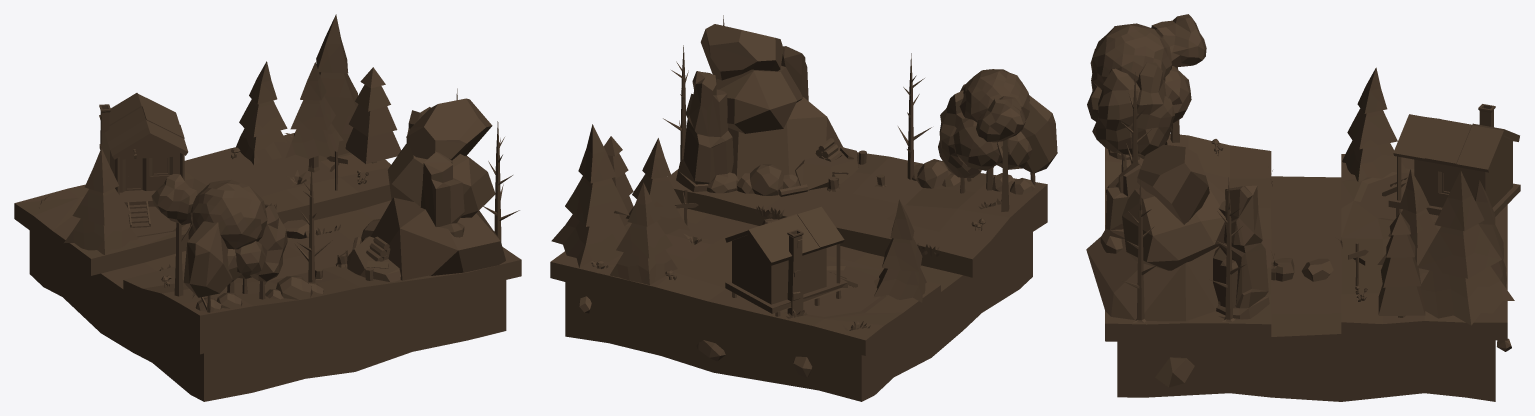
The model's file is polyperfect-forest-base.fbx.
3 renders of one model, left to right at view 1: azimuth 30°, elevation 25°; view 2: azimuth 150°, elevation 25°; view 3: azimuth 270°, elevation 25°, orthographic. The views are drawn at different scales.
Visible parts, largest first — view 1: polyperfect-forest-base; view 2: polyperfect-forest-base; view 3: polyperfect-forest-base.
Part boxes in pixels (bbox=[...]): polyperfect-forest-base: bbox=[14, 14, 521, 401]; polyperfect-forest-base: bbox=[550, 15, 1057, 401]; polyperfect-forest-base: bbox=[1086, 14, 1520, 401].
Size of the model in its own units: 21.62 by 12.9 by 21.59.
